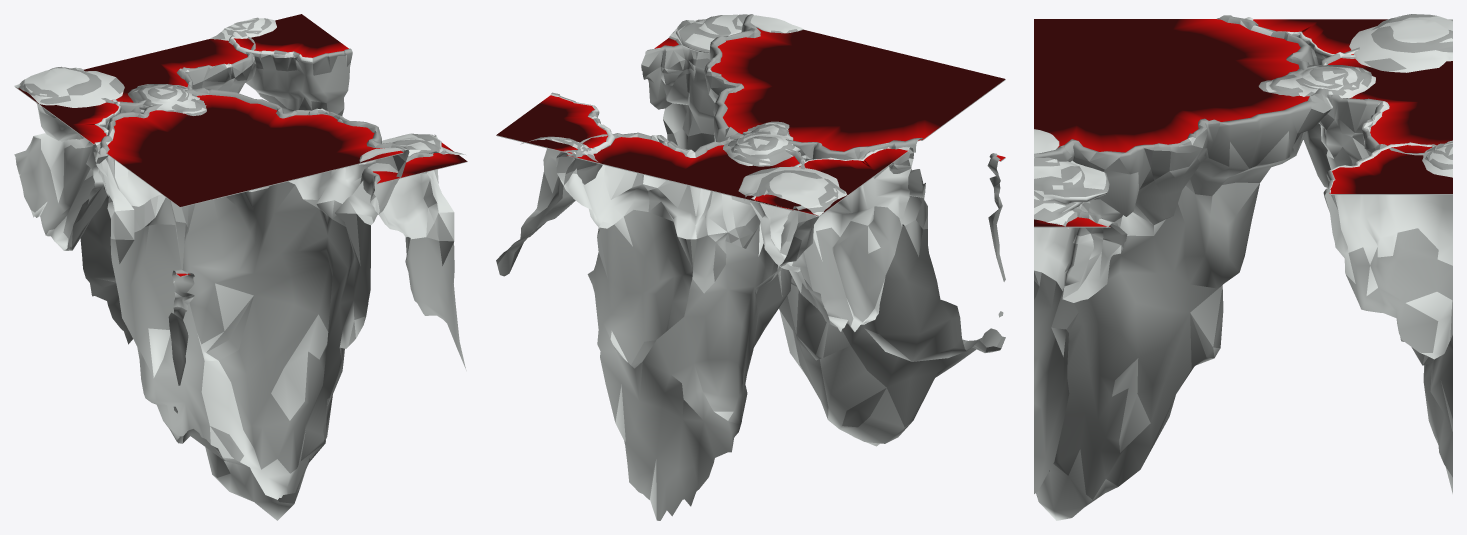
The picture shows the model from 3 angles, left to right: view 1: azimuth 30°, elevation 25°; view 2: azimuth 150°, elevation 25°; view 3: azimuth 270°, elevation 25°; orthographic projection. The views are drawn at different scales.
Parts seen in each view (by area): view 1: G:\FFXIV-MapTools\exports\a2f1\bg\ex1\03_abr_a2\fld\a2f1\bgp (×10); view 2: G:\FFXIV-MapTools\exports\a2f1\bg\ex1\03_abr_a2\fld\a2f1\bgp (×10); view 3: G:\FFXIV-MapTools\exports\a2f1\bg\ex1\03_abr_a2\fld\a2f1\bgp (×9).
Boxes of the visible parts, x1,y1,x2,y2 form: G:\FFXIV-MapTools\exports\a2f1\bg\ex1\03_abr_a2\fld\a2f1\bgp (×10): (14, 14, 467, 520); G:\FFXIV-MapTools\exports\a2f1\bg\ex1\03_abr_a2\fld\a2f1\bgp (×10): (496, 14, 1005, 520); G:\FFXIV-MapTools\exports\a2f1\bg\ex1\03_abr_a2\fld\a2f1\bgp (×9): (1034, 14, 1452, 520).
Size of the model in its own units: 128 by 151 by 128.
